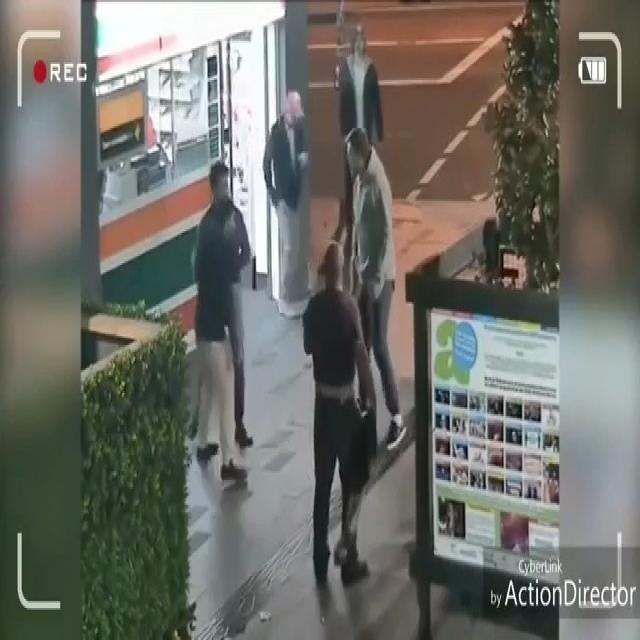fight: (300, 127, 398, 608), (187, 160, 254, 501)
